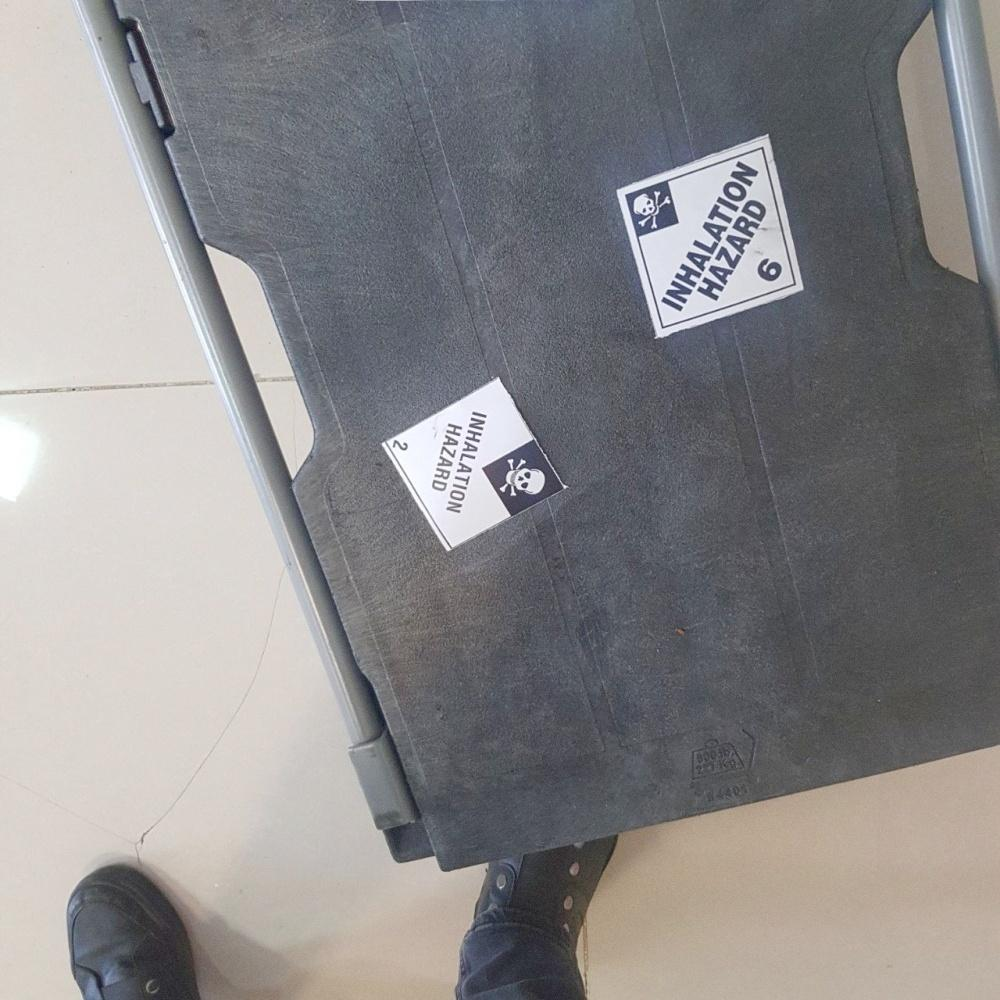poison: (619, 130, 808, 341), (375, 375, 572, 553)
